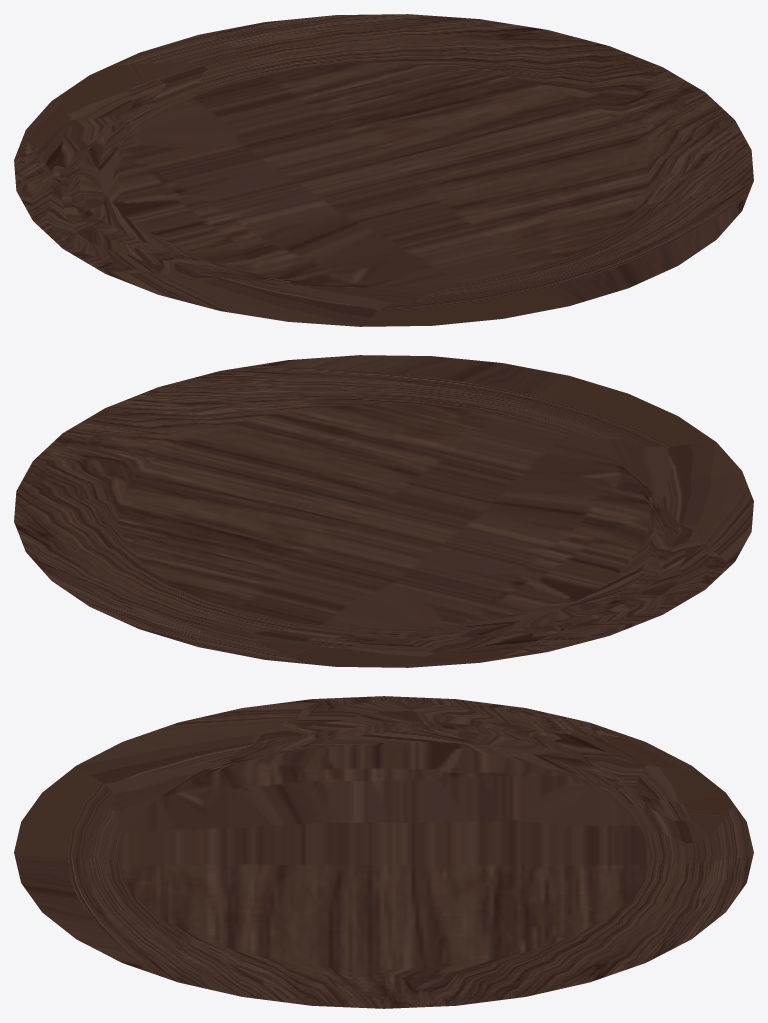
The model's file is Plates.obj.
The picture shows the model from 3 angles, top to bottom: view 1: azimuth 30°, elevation 25°; view 2: azimuth 150°, elevation 25°; view 3: azimuth 270°, elevation 25°; orthographic projection.
Parts seen in each view (by area): view 1: Cylinder; view 2: Cylinder; view 3: Cylinder.
Part boxes in pixels (x1,y1,x2,y2): Cylinder: (14,14,753,326); Cylinder: (14,355,753,667); Cylinder: (14,696,753,1008).
Bounding box in the file's own units: 0.0658 × 0.0014 × 0.0658.
